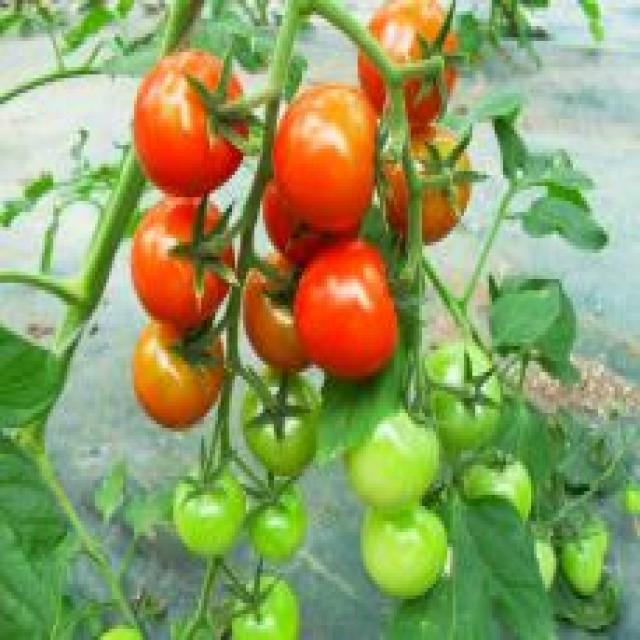level 1: (234, 359, 326, 465), (556, 532, 609, 596), (572, 524, 620, 567), (623, 466, 640, 516)
level 2: (354, 488, 458, 612), (348, 410, 442, 528), (416, 330, 505, 452), (166, 460, 254, 575), (446, 440, 538, 545), (234, 461, 308, 570), (216, 565, 306, 640), (505, 524, 565, 596)
level 4: (370, 75, 478, 279), (128, 299, 235, 432)
level 5: (269, 64, 396, 250), (353, 0, 468, 120), (232, 234, 326, 375)
level 6: (296, 242, 414, 395), (116, 188, 237, 331), (133, 61, 253, 197), (253, 172, 354, 274)
